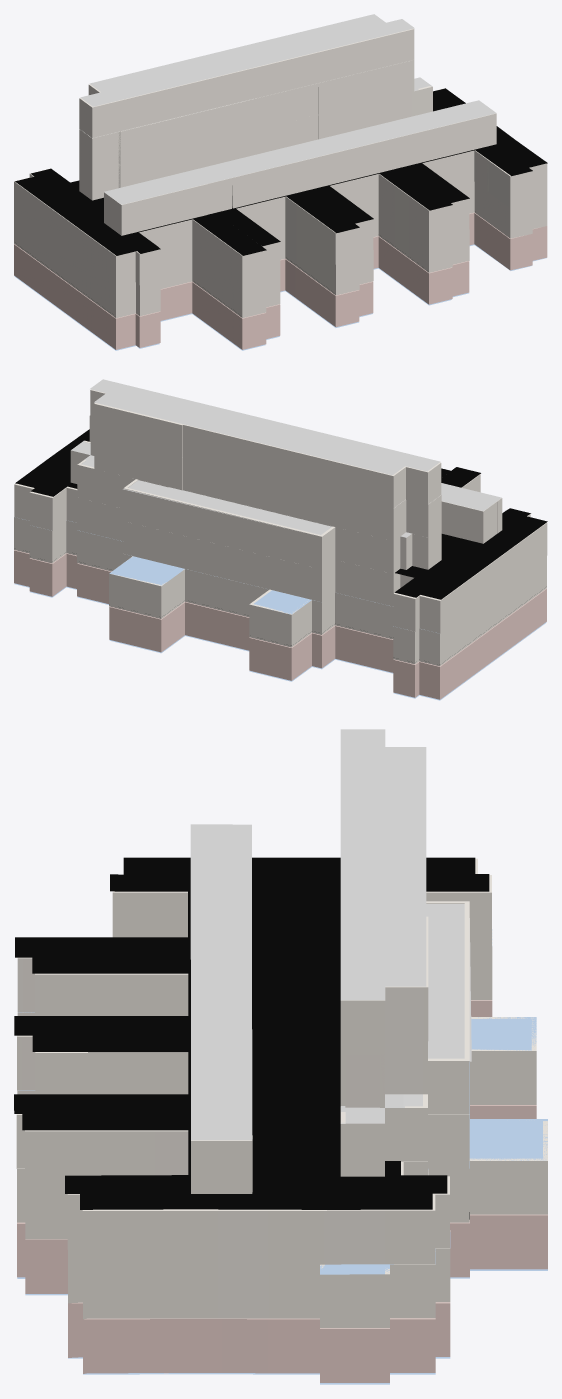
The model's file is FullHouse.glb.
3 views of the same model, one above another, from view 1: azimuth 30°, elevation 25°; view 2: azimuth 150°, elevation 25°; view 3: azimuth 270°, elevation 25° (orthographic). The views are drawn at different scales.
Visible parts, largest first — view 1: Plane.007, Plane.004, Plane, Plane.002, Plane.005, Plane.012, Plane.009, Plane.013, Plane.008, Plane.001; view 2: Plane.002, Plane.004, Plane, Plane.007, Plane.012, Plane.009, Plane.013, Plane.005, Plane.011, Plane.006, Plane.008, Plane.001; view 3: Plane.005, Plane.004, Plane.002, Plane, Plane.013, Plane.008, Plane.007, Plane.011, Plane.006, Plane.012, Plane.009, Plane.001.
Boxes of the visible parts, bbox=[...] form: Plane.007: bbox=[79, 86, 496, 235]; Plane.004: bbox=[14, 88, 547, 286]; Plane: bbox=[14, 212, 547, 349]; Plane.002: bbox=[14, 181, 547, 318]; Plane.005: bbox=[15, 88, 547, 255]; Plane.012: bbox=[79, 28, 414, 138]; Plane.009: bbox=[79, 60, 414, 169]; Plane.013: bbox=[80, 14, 414, 106]; Plane.008: bbox=[104, 100, 496, 204]; Plane.001: bbox=[14, 244, 546, 350]; Plane.002: bbox=[14, 517, 546, 666]; Plane.004: bbox=[14, 474, 547, 633]; Plane: bbox=[14, 550, 546, 699]; Plane.007: bbox=[70, 415, 502, 573]; Plane.012: bbox=[90, 389, 441, 508]; Plane.009: bbox=[90, 423, 441, 541]; Plane.013: bbox=[90, 379, 440, 475]; Plane.005: bbox=[15, 429, 547, 599]; Plane.011: bbox=[71, 440, 411, 537]; Plane.006: bbox=[22, 519, 436, 632]; Plane.008: bbox=[441, 483, 501, 511]; Plane.001: bbox=[14, 583, 546, 700]; Plane.005: bbox=[14, 857, 489, 1209]; Plane.004: bbox=[16, 858, 491, 1265]; Plane.002: bbox=[17, 931, 547, 1328]; Plane: bbox=[17, 1000, 547, 1382]; Plane.013: bbox=[340, 729, 426, 1000]; Plane.008: bbox=[190, 824, 252, 1140]; Plane.007: bbox=[191, 901, 469, 1193]; Plane.011: bbox=[341, 904, 471, 1123]; Plane.006: bbox=[18, 929, 547, 1274]; Plane.012: bbox=[340, 916, 428, 1054]; Plane.009: bbox=[340, 1041, 427, 1107]; Plane.001: bbox=[17, 1269, 547, 1384].
Bounding box in the file's own units: 346 × 145 × 215.
